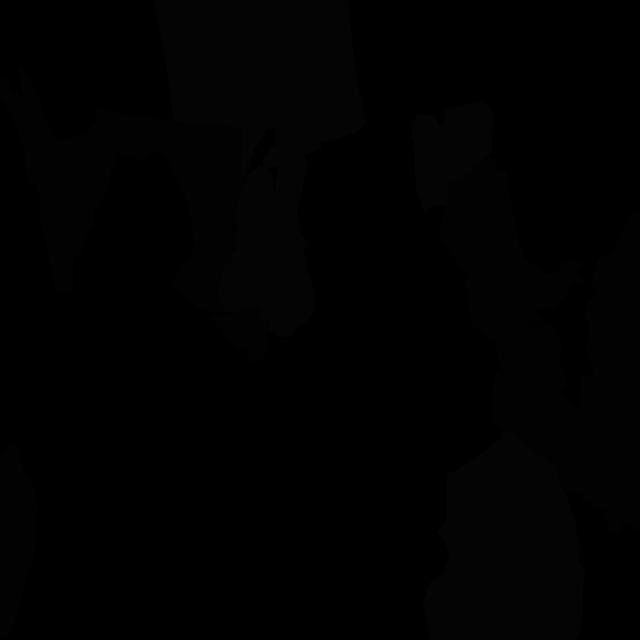cardboard: (0, 65, 243, 314), (440, 156, 586, 363), (491, 321, 619, 518), (576, 211, 640, 534), (0, 442, 38, 640), (209, 307, 268, 364)
soft_plastic: (153, 0, 365, 183), (422, 429, 585, 640), (218, 165, 314, 339), (411, 101, 494, 214), (275, 145, 308, 222)
